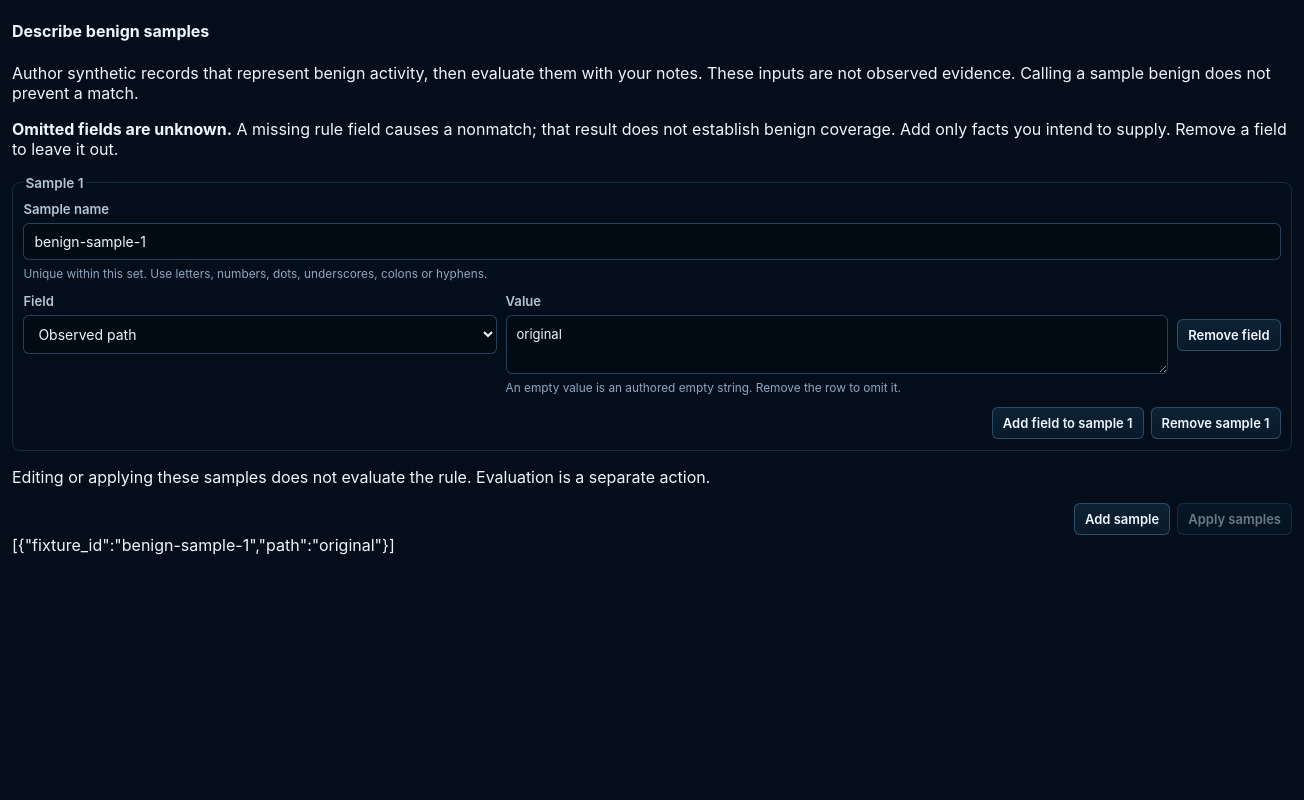
Test: generates unique names and retains invalid names and duplicate fields until repaired or discarded
The width and height of the screenshot is (1304, 800).
Click the button "Add sample" at (1122, 519), box [1074,503,1170,535]
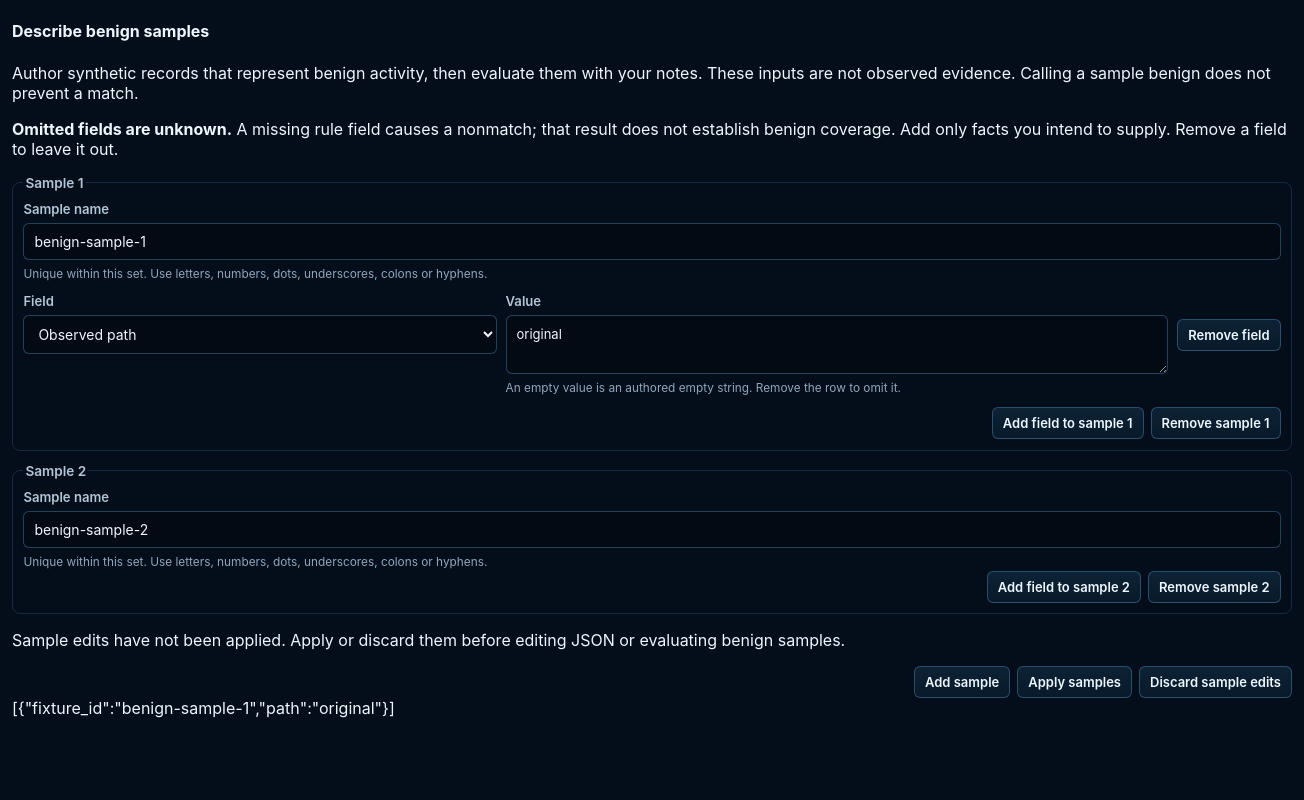
Check: the field named "Sample name 2" holds "benign-sample-2"
Replace the text in the field named "Sample name 2" with "benign-sample-1" at (652, 530), box [23,511,1281,548]
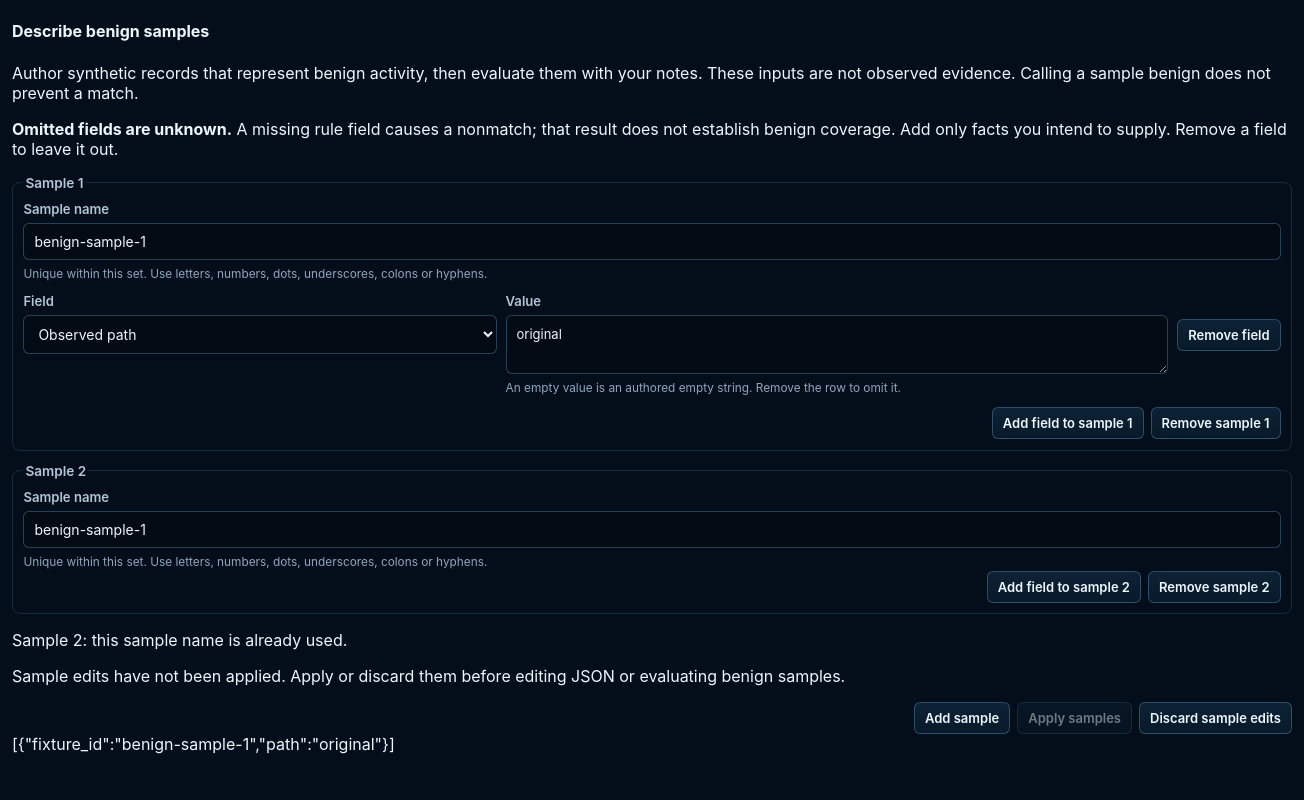
Check: the message "Sample 2: this sample name is already used." is shown, box [12,630,347,650]
Check: the button "Apply samples" is disabled, box [1017,702,1132,734]
Clear the field named "Sample name 2" at (652, 530), box [23,511,1281,548]
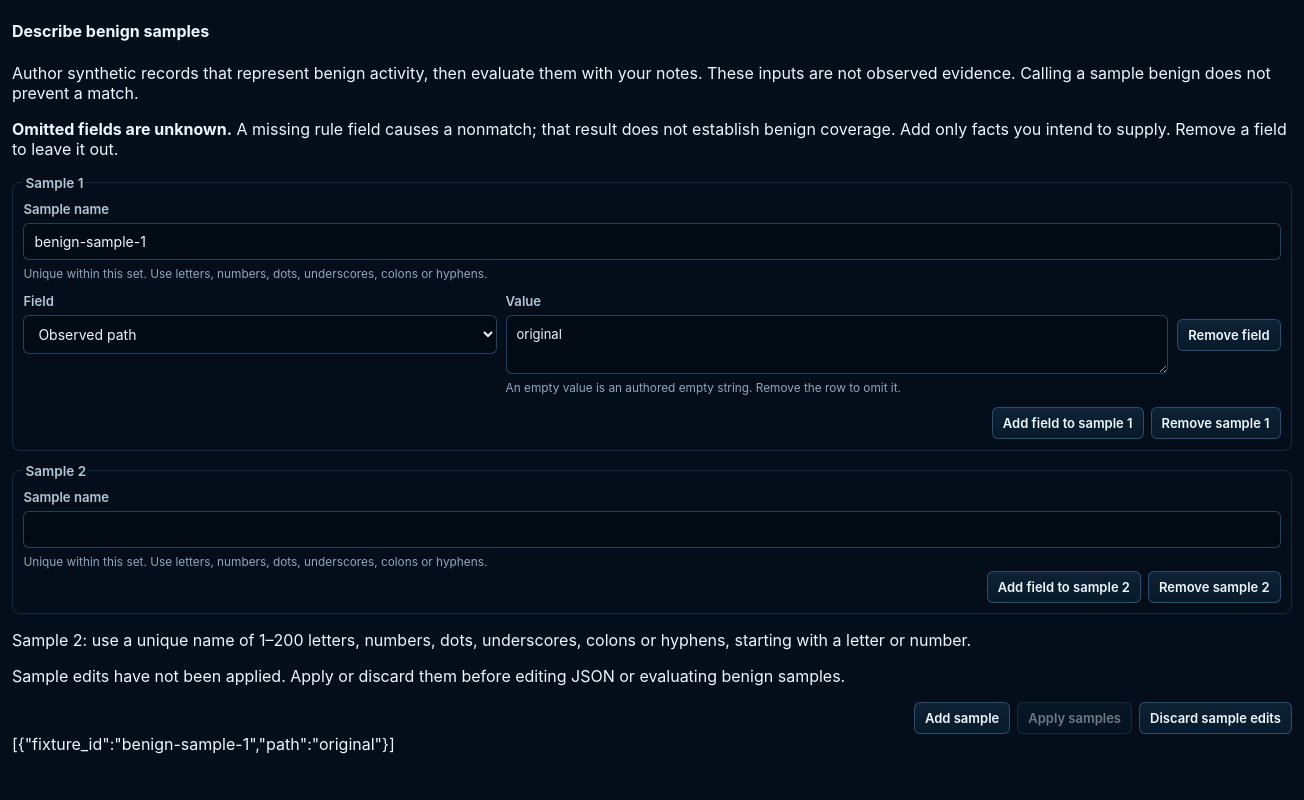
Click the button "Discard sample edits" at (1216, 718), box [1139,702,1292,734]
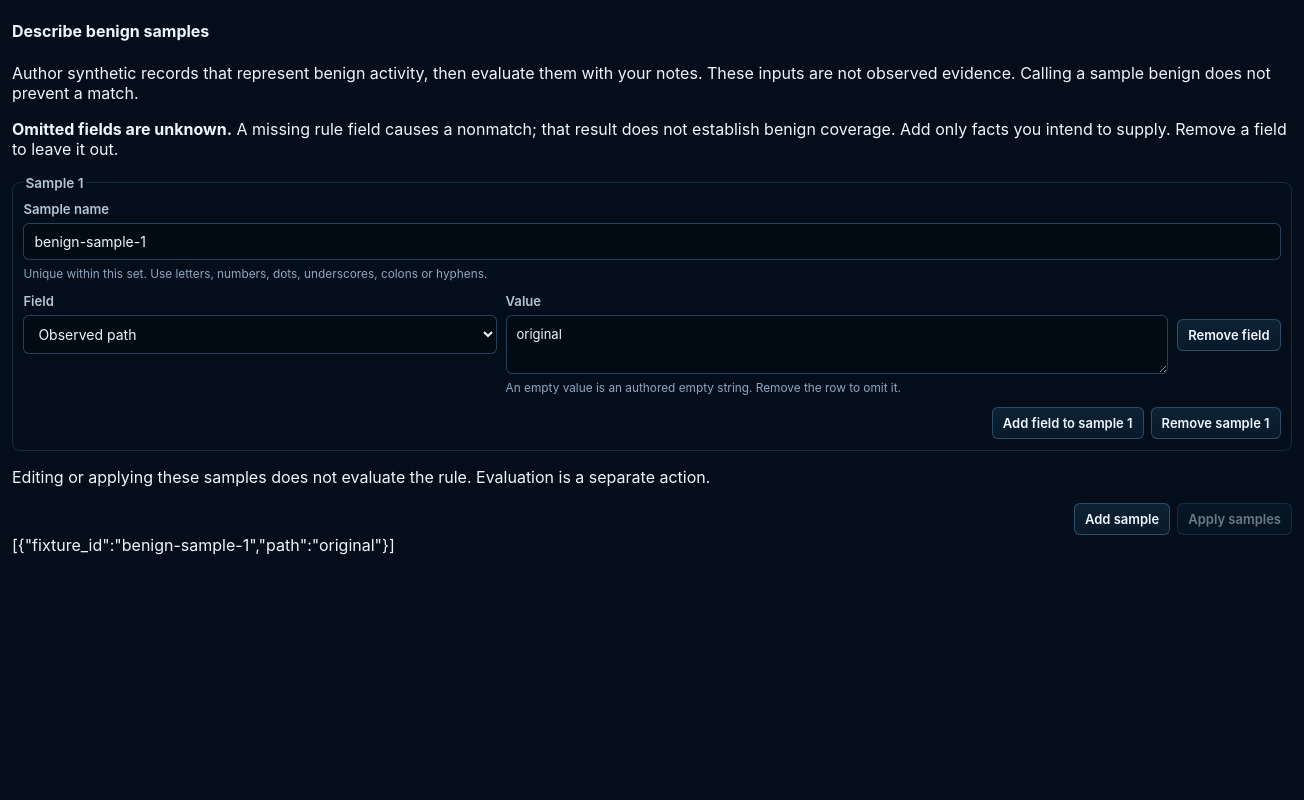
Click the button "Add field to sample 1" at (1068, 423), box [992,407,1144,439]
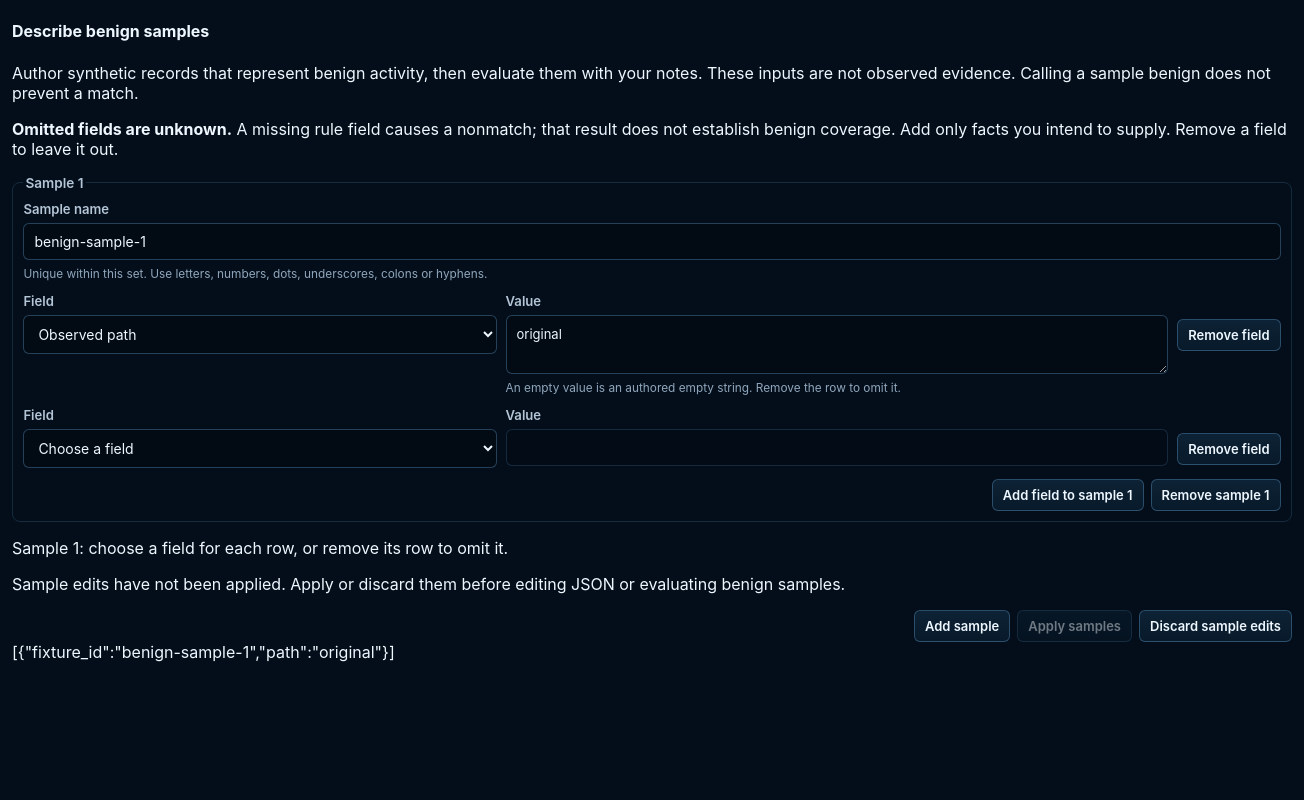
Select "Observed path" in the dropdown named "Field 2 for sample 1" at (260, 449), box [23,429,497,468]
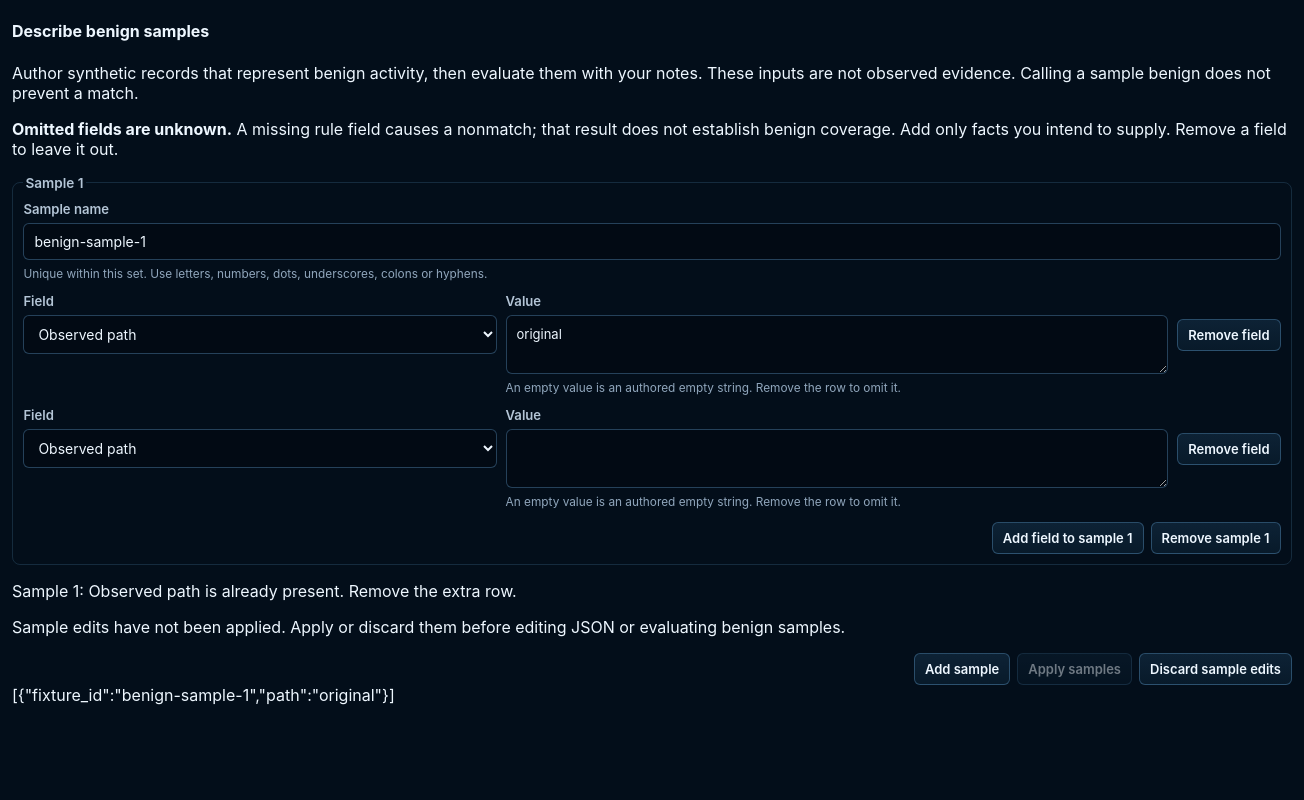
Check: the text with test id "sample-source" reads "[{\"fixture_id\":\"benign-sample-1\",\"path\":\"original\"}]", box [12,685,395,705]
Check: the message "Sample 1: Observed path is already present. Remove the extra row." is shown, box [12,581,517,601]
